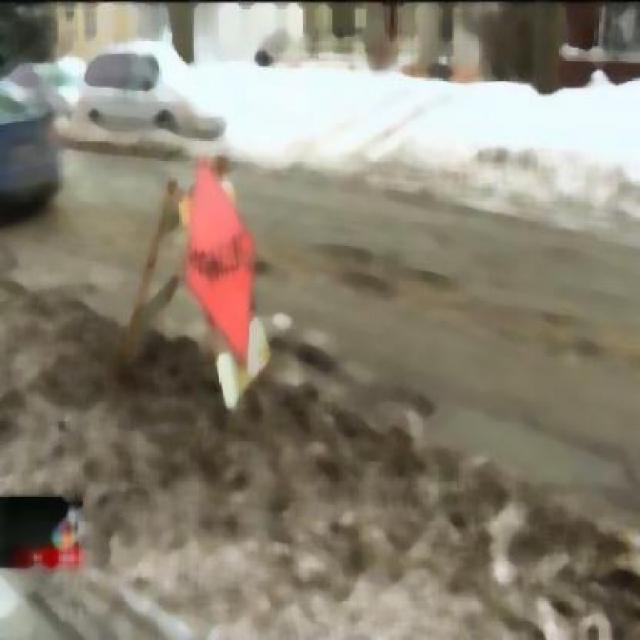pothole: (307, 238, 450, 317), (550, 321, 601, 377)
